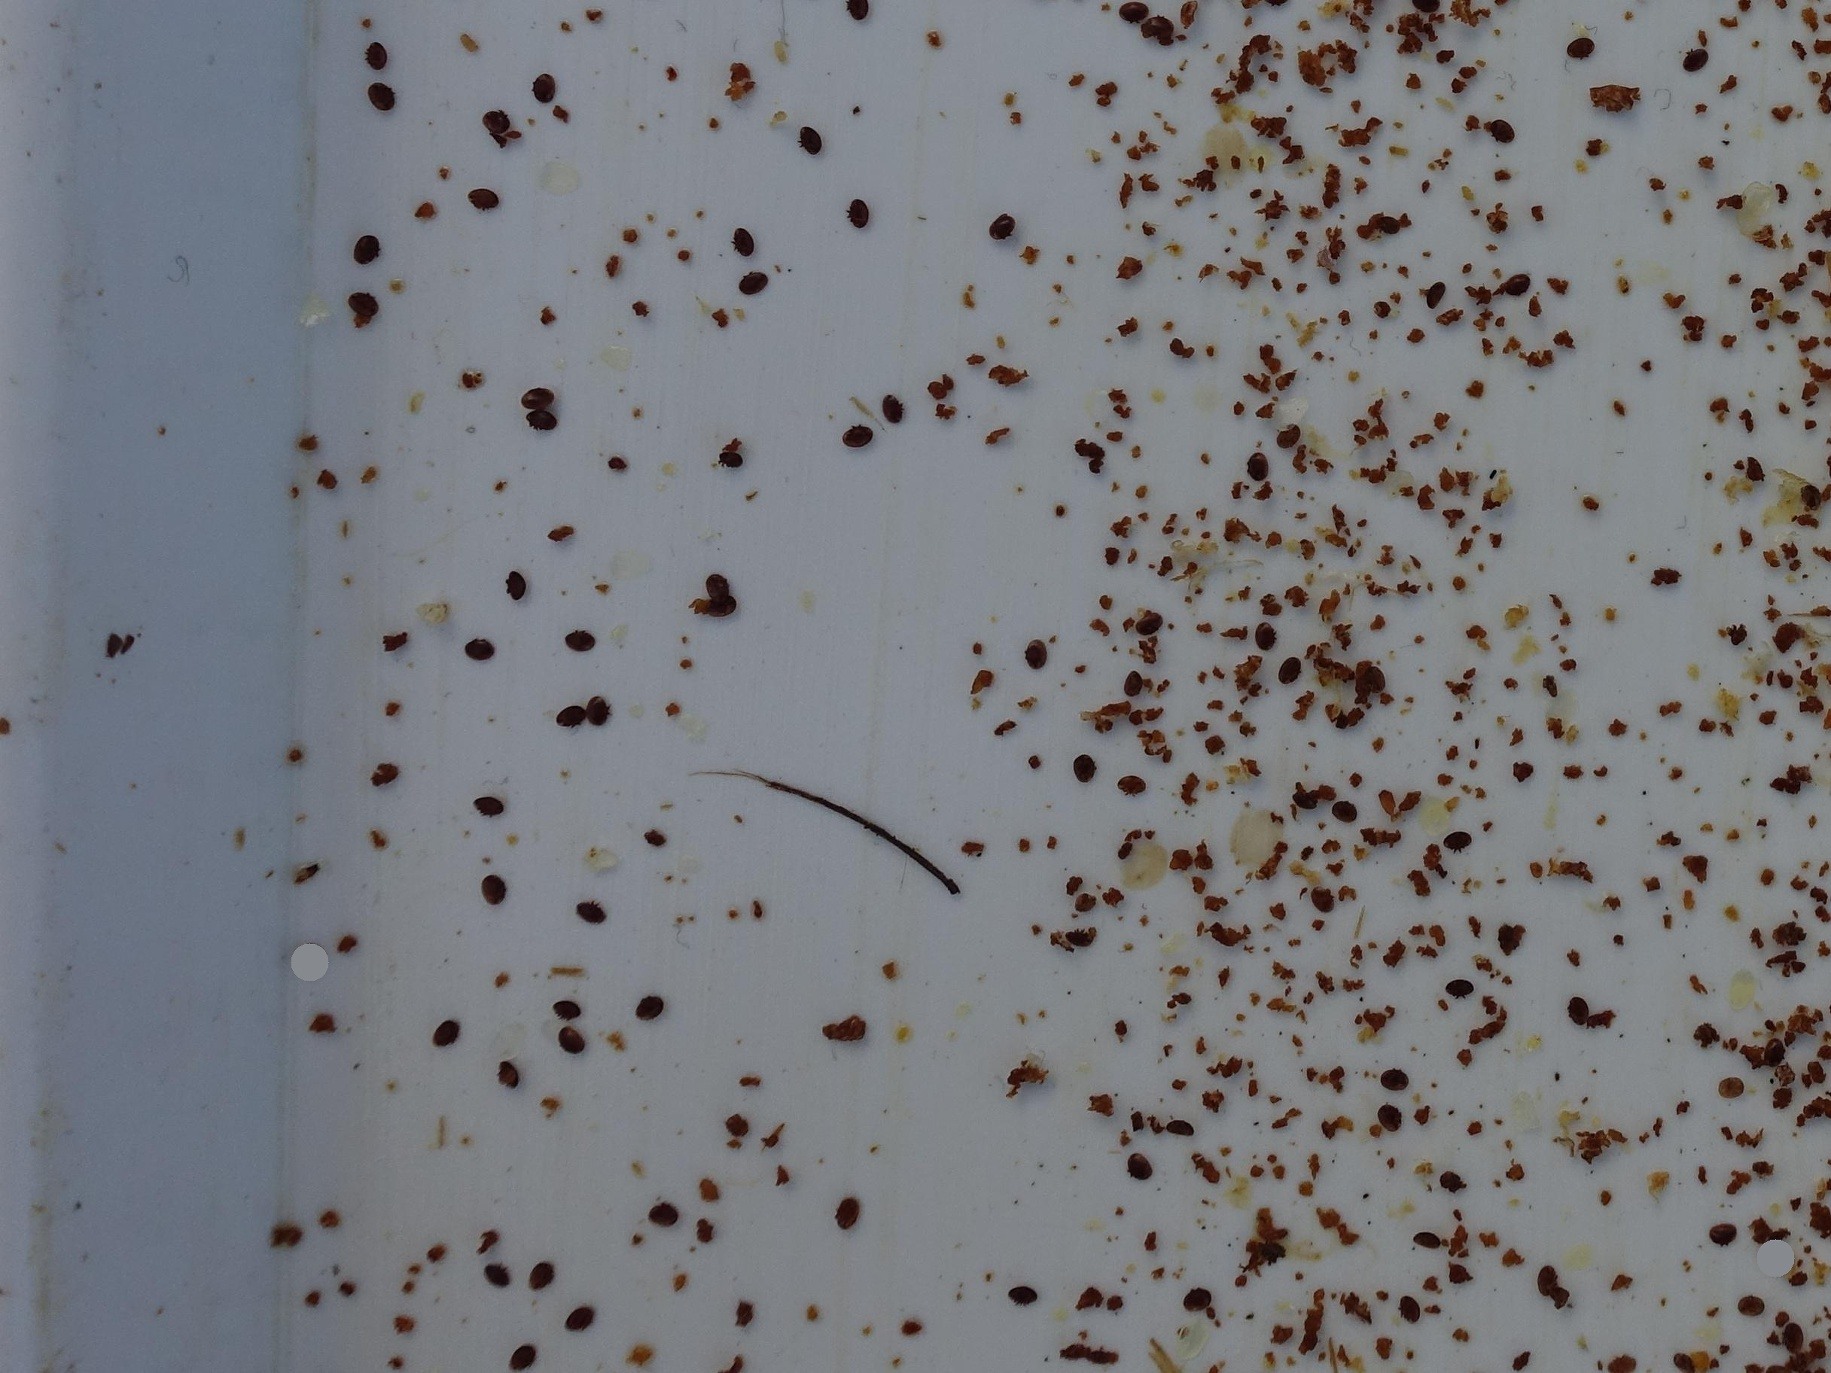Varroa: (1734, 446, 1773, 483), (551, 697, 588, 736), (1371, 208, 1409, 245), (1419, 275, 1456, 313), (1732, 1294, 1763, 1325), (1394, 1294, 1423, 1325), (1148, 14, 1176, 46), (347, 286, 376, 316), (1357, 661, 1386, 689), (567, 1304, 594, 1333), (1064, 924, 1091, 953), (704, 574, 731, 601), (1719, 1067, 1746, 1095), (1759, 1041, 1786, 1069), (528, 401, 554, 428), (484, 105, 510, 133), (1135, 606, 1161, 633), (1416, 1223, 1442, 1250), (1277, 424, 1303, 451), (1122, 776, 1148, 802), (526, 1259, 552, 1285), (1535, 1268, 1561, 1294), (1295, 785, 1321, 811), (1290, 663, 1316, 689), (366, 84, 391, 110), (1311, 878, 1335, 904), (1249, 449, 1273, 474), (1374, 1103, 1398, 1129), (1269, 653, 1295, 678), (437, 1008, 461, 1034), (714, 454, 740, 479), (569, 624, 594, 649), (653, 1201, 678, 1226), (732, 226, 755, 252), (1332, 798, 1355, 824), (577, 894, 600, 919), (1445, 826, 1468, 851), (473, 186, 497, 209), (1388, 1063, 1411, 1087), (487, 1269, 510, 1294), (497, 1056, 520, 1080), (355, 235, 378, 260), (1446, 971, 1471, 994), (369, 37, 392, 62), (582, 701, 607, 724), (505, 575, 528, 600), (558, 998, 581, 1023), (1711, 1223, 1734, 1246), (473, 635, 496, 658), (1127, 1155, 1151, 1178), (836, 1204, 859, 1227), (1564, 992, 1587, 1015), (634, 992, 657, 1015), (482, 875, 505, 899), (1789, 1323, 1812, 1346), (1254, 626, 1276, 650), (538, 74, 559, 97), (1491, 123, 1512, 146), (988, 221, 1011, 242), (1024, 640, 1045, 663), (845, 200, 866, 224), (569, 1020, 590, 1044), (742, 268, 764, 290), (1184, 1285, 1205, 1307), (1123, 672, 1145, 694), (1070, 761, 1091, 782), (1011, 1288, 1031, 1310), (1505, 277, 1525, 299), (484, 796, 505, 818), (882, 407, 904, 427), (531, 384, 552, 404), (1569, 37, 1589, 58), (835, 428, 855, 449), (1683, 48, 1701, 66), (797, 133, 815, 151)
